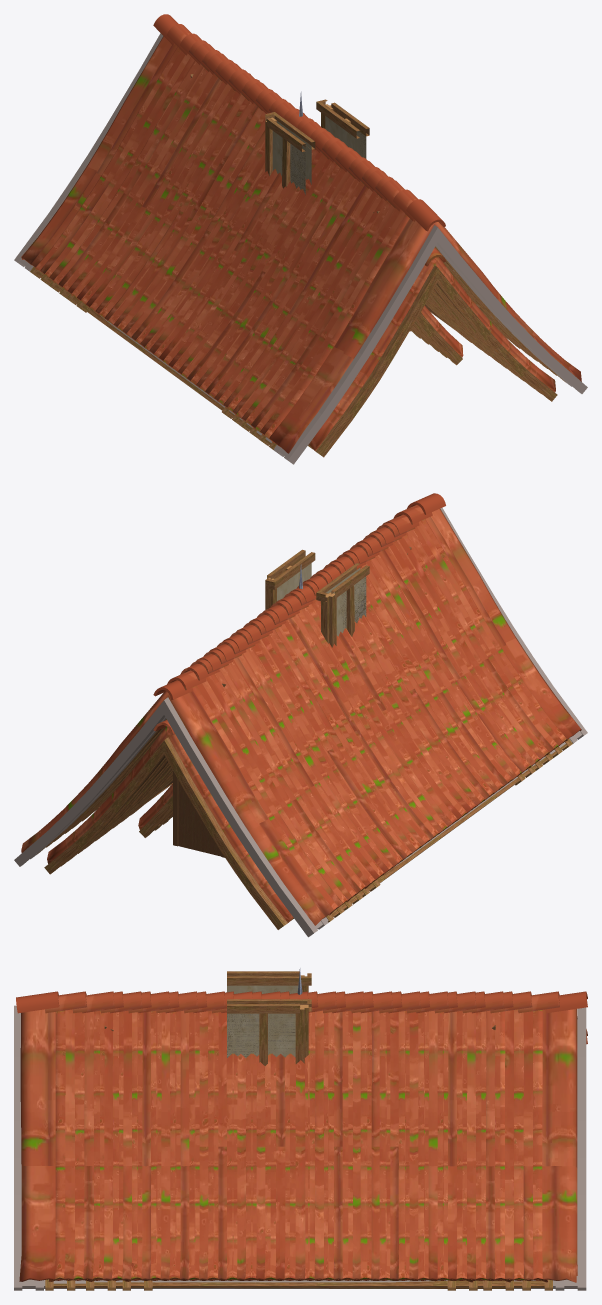
Rendered from pueblo.glb.
3 views of the same model, one above another, from view 1: azimuth 30°, elevation 25°; view 2: azimuth 150°, elevation 25°; view 3: azimuth 270°, elevation 25° (orthographic). The views are drawn at different scales.
Parts seen in each view (by area): view 1: Roof_RoundTiles_8x14, Roof_RoundTiles_8x12, Roof_RoundTiles_8x10, Roof_RoundTiles_6x14, Roof_RoundTiles_8x8, Overhang_Side_Plaster_Long_L, Overhang_Side_Plaster_Long_R, Roof_RoundTiles_4x8, Overhang_Side_Plaster_Short_L; view 2: Roof_RoundTiles_8x14, Roof_RoundTiles_8x10, Roof_RoundTiles_8x12, Roof_RoundTiles_8x8, Roof_RoundTiles_6x14, Stair_Interior_SolidExtended, Overhang_Side_Plaster_Long_L, Overhang_Side_Plaster_Long_R, Overhang_Side_Plaster_Short_L, Roof_RoundTiles_4x8; view 3: Roof_RoundTiles_8x14, Roof_RoundTiles_8x12, Roof_RoundTiles_8x10, Roof_RoundTiles_8x8, Overhang_Side_Plaster_Long_R, Overhang_Side_Plaster_Long_L, Overhang_Side_Plaster_Short_R, Overhang_Side_UnevenBrick_Long_R.
Boxes of the visible parts, <box> form: Roof_RoundTiles_8x14: <box>14,14,587,464</box>; Roof_RoundTiles_8x12: <box>30,24,565,449</box>; Roof_RoundTiles_8x10: <box>48,40,547,438</box>; Roof_RoundTiles_6x14: <box>308,248,557,457</box>; Roof_RoundTiles_8x8: <box>66,50,529,424</box>; Overhang_Side_Plaster_Long_L: <box>265,112,315,194</box>; Overhang_Side_Plaster_Long_R: <box>316,100,369,158</box>; Roof_RoundTiles_4x8: <box>413,305,463,365</box>; Overhang_Side_Plaster_Short_L: <box>265,114,293,188</box>; Roof_RoundTiles_8x14: <box>14,493,587,937</box>; Roof_RoundTiles_8x10: <box>54,523,553,910</box>; Roof_RoundTiles_8x12: <box>36,505,572,922</box>; Roof_RoundTiles_8x8: <box>72,533,535,896</box>; Roof_RoundTiles_6x14: <box>44,720,293,929</box>; Stair_Interior_SolidExtended: <box>173,771,224,857</box>; Overhang_Side_Plaster_Long_L: <box>316,563,369,647</box>; Overhang_Side_Plaster_Long_R: <box>265,549,315,609</box>; Overhang_Side_Plaster_Short_L: <box>317,576,354,645</box>; Roof_RoundTiles_4x8: <box>138,783,172,837</box>; Roof_RoundTiles_8x14: <box>14,991,587,1290</box>; Roof_RoundTiles_8x12: <box>45,991,559,1290</box>; Roof_RoundTiles_8x10: <box>82,991,513,1290</box>; Roof_RoundTiles_8x8: <box>122,991,485,1290</box>; Overhang_Side_Plaster_Long_R: <box>227,999,311,1065</box>; Overhang_Side_Plaster_Long_L: <box>227,971,311,993</box>; Overhang_Side_Plaster_Short_R: <box>259,999,311,1064</box>; Overhang_Side_UnevenBrick_Long_R: <box>227,1014,295,1057</box>.
Bounding box in the file's own units: 9.95 × 8.91 × 15.71.
Materials: 10 (9 with a texture image).
